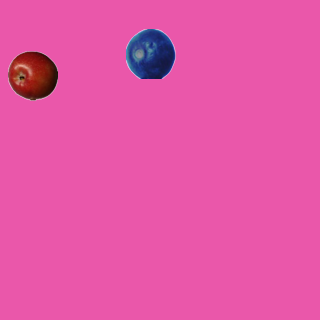Apple Braeburn: (7, 50, 57, 100)
Huckleberry: (125, 28, 175, 78)
